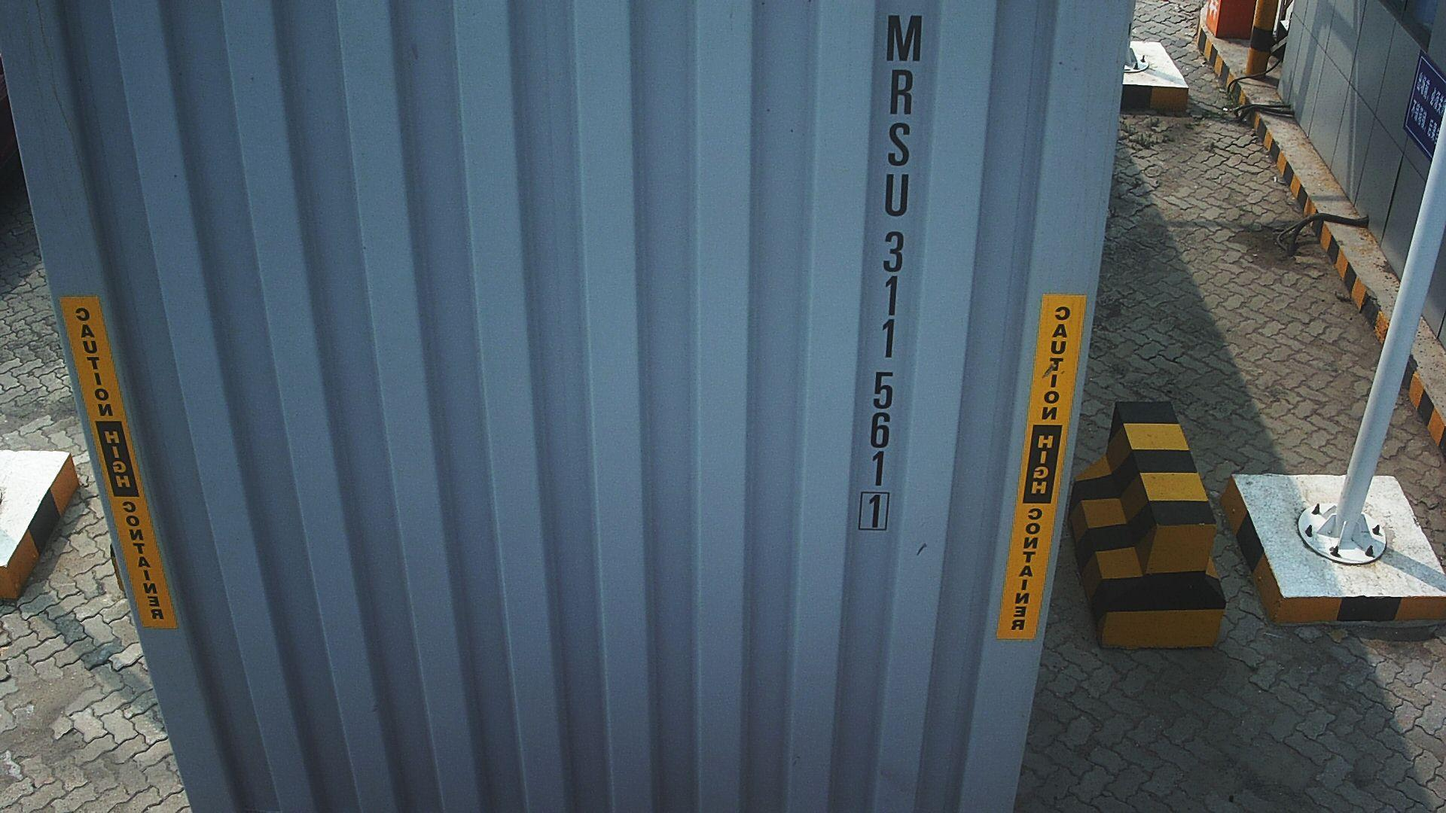container-numbers: (853, 6, 930, 538)
